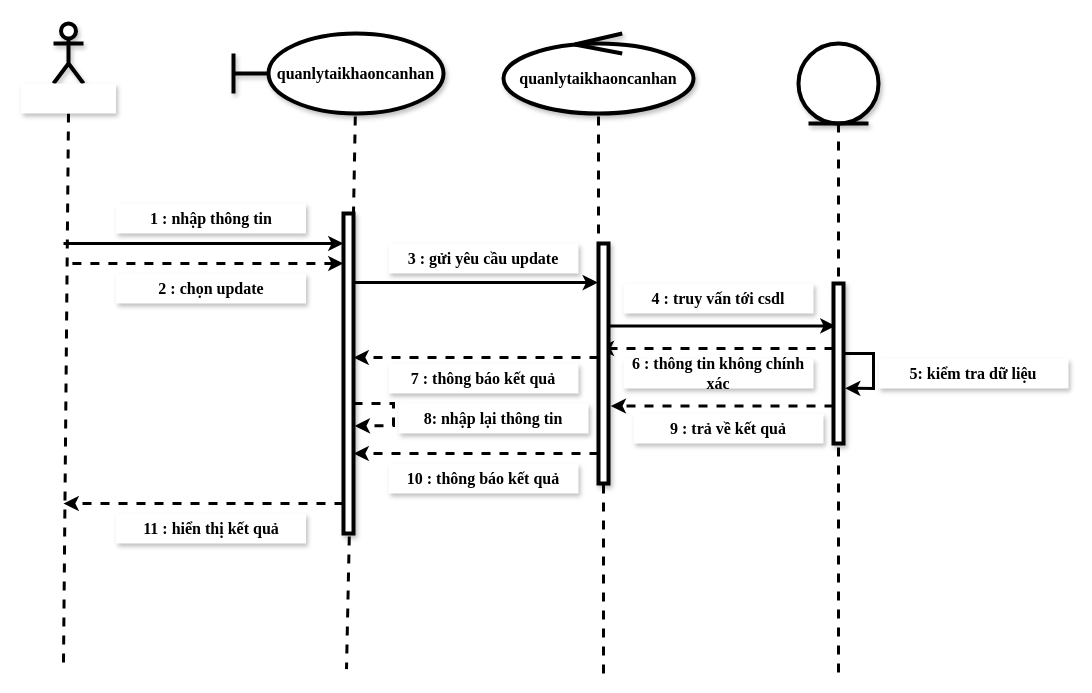
Some shapes in this 1092 by 693 pixel diagram are drawn without their labels. The centre of each missing label's shape, as x and y in pixels:
Actor: pixel 69 54
csdl: pixel 839 84
khachhang: pixel 69 99
